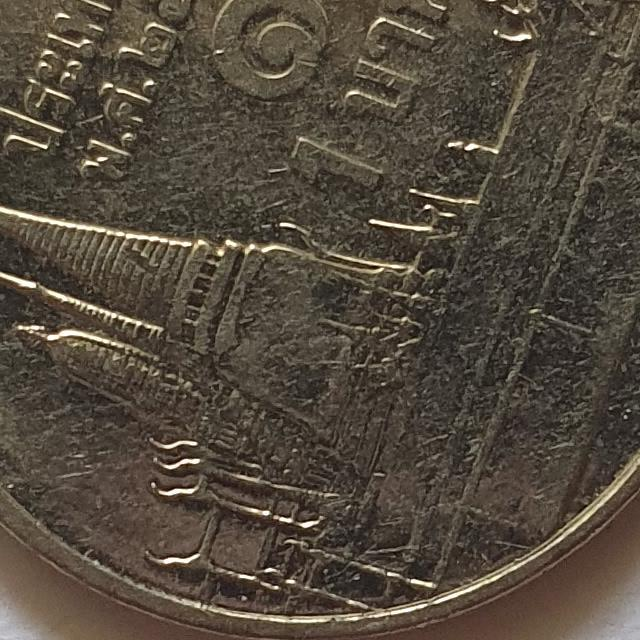1 Bath: (2, 1, 640, 639)
